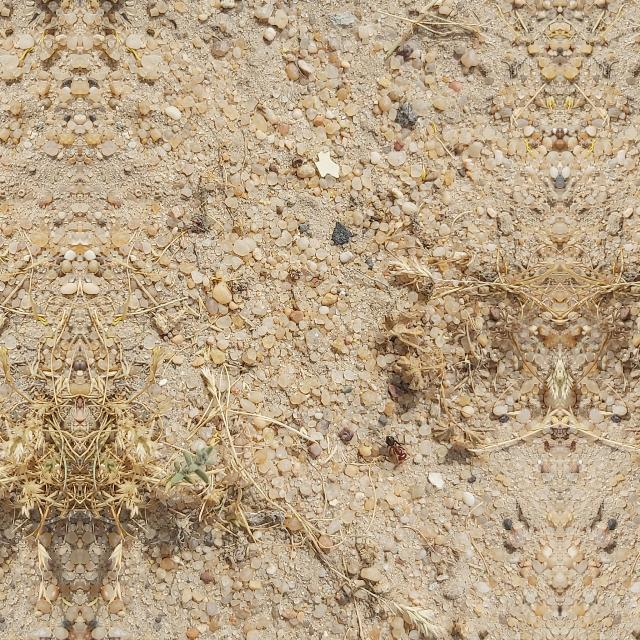Cataglyphis: (382, 428, 412, 466)
